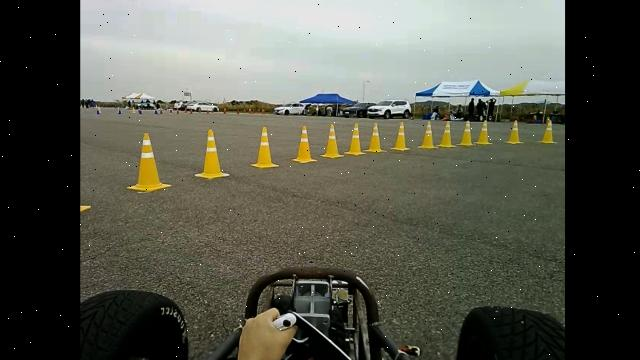yellow cone: (126, 132, 172, 192), (195, 128, 230, 180), (251, 126, 279, 168), (291, 124, 318, 164), (320, 123, 344, 158), (363, 122, 387, 153), (344, 122, 366, 155), (390, 121, 411, 151), (418, 120, 438, 150), (456, 120, 477, 146), (538, 118, 558, 144), (436, 121, 456, 147), (505, 119, 524, 144), (475, 119, 493, 145)
